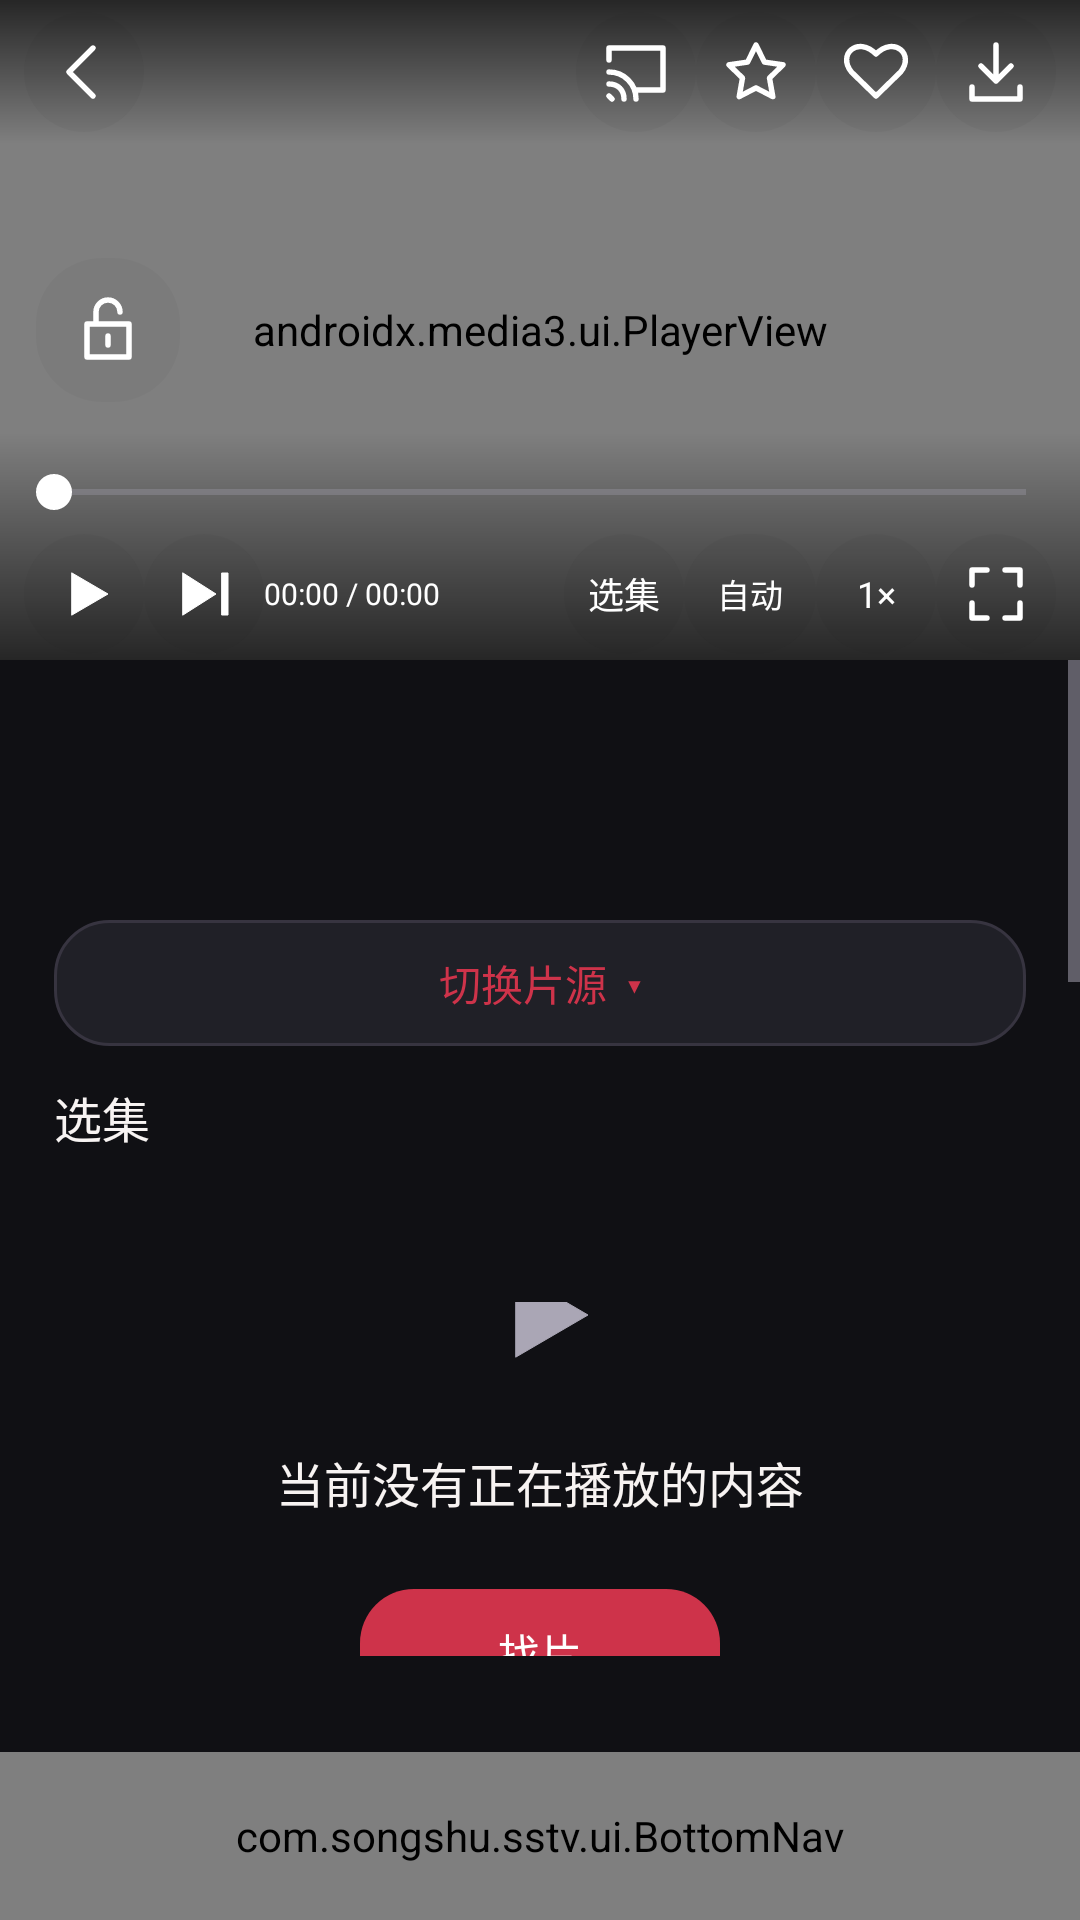

Icon click points for this 1080*1920 phone screenshot, format point (x, y):
下一集: point (204, 594)
全屏: point (996, 594)
喜欢此刻: point (876, 72)
投屏: point (636, 72)
播放: point (84, 594)
收藏: point (756, 72)
缓存: point (996, 72)
返回: point (84, 72)
锁定屏幕: point (108, 328)
